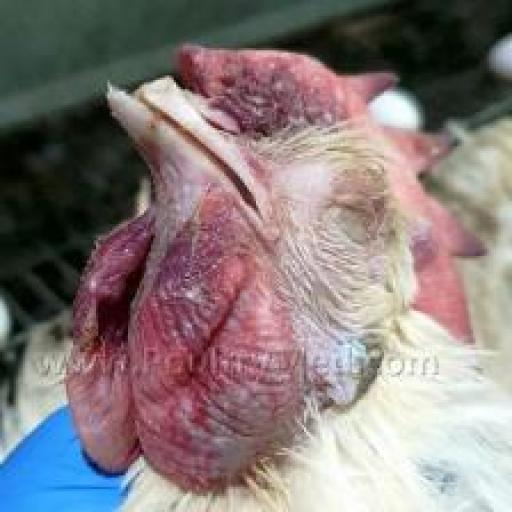disease: (148, 25, 365, 133), (304, 139, 411, 273)
